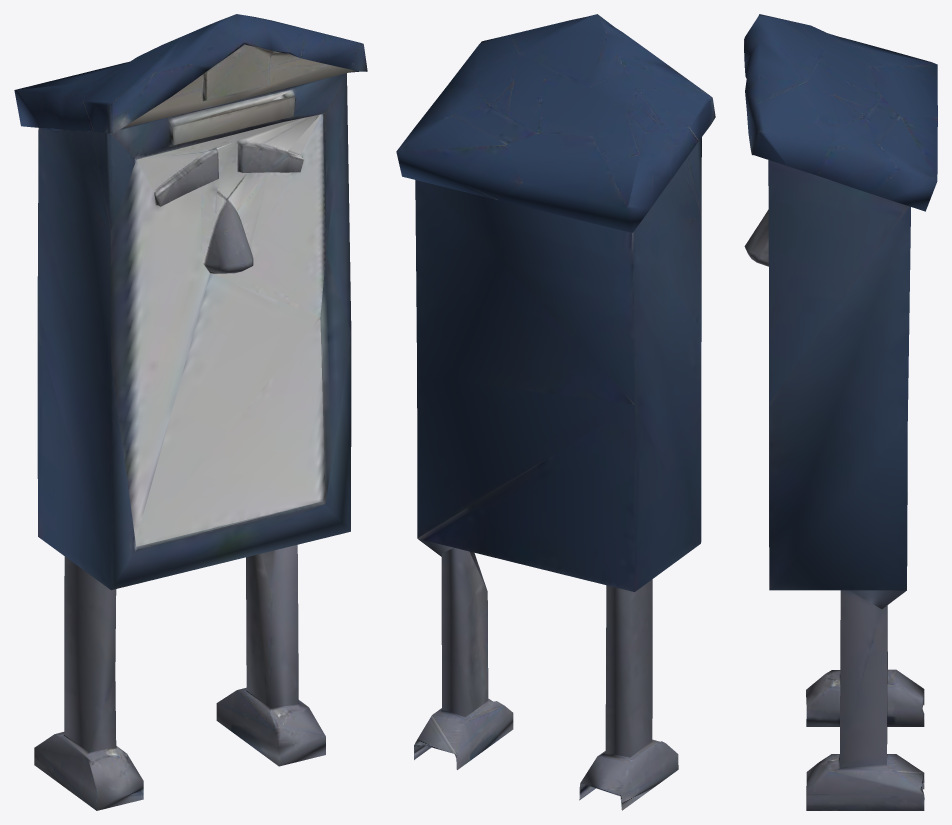
The picture shows the model from 3 angles, left to right: view 1: azimuth 30°, elevation 25°; view 2: azimuth 150°, elevation 25°; view 3: azimuth 270°, elevation 25°; orthographic projection. The views are drawn at different scales.
Bounding box in the file's own units: 0.6437 × 1.9 × 0.4486.
1 material, 1 textured.
